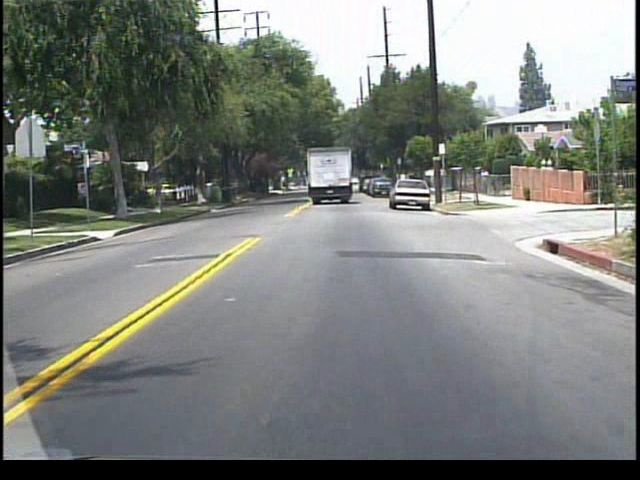person: (478, 166, 491, 197)
